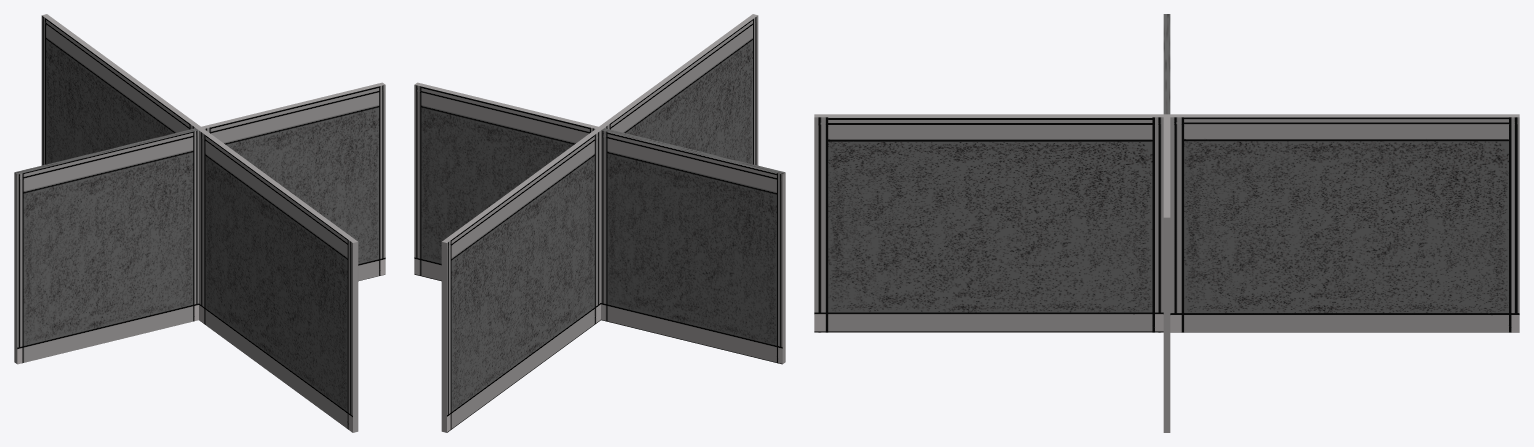
Rendered from cubicle.glb.
3 renders of one model, left to right at view 1: azimuth 30°, elevation 25°; view 2: azimuth 150°, elevation 25°; view 3: azimuth 270°, elevation 25°, orthographic. The views are drawn at different scales.
Visible parts, largest first — view 1: Cubicle; view 2: Cubicle; view 3: Cubicle.
Boxes of the visible parts, <box> form: Cubicle: <box>14,14,385,432</box>; Cubicle: <box>414,14,785,432</box>; Cubicle: <box>814,14,1519,432</box>.
Bounding box in the file's own units: 3.45 × 1.7 × 5.05.
Materials: 1 (1 with a texture image).
